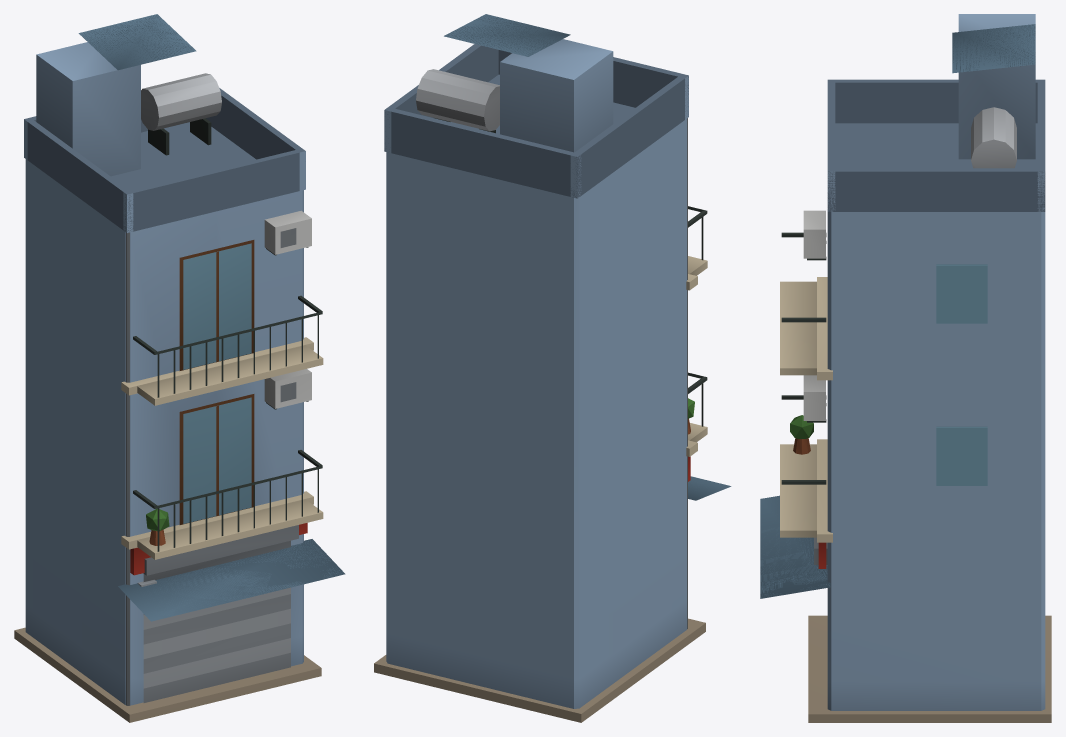
Rendered from nha-pho-d.glb.
3 views of the same model, side by side, from view 1: azimuth 30°, elevation 25°; view 2: azimuth 150°, elevation 25°; view 3: azimuth 270°, elevation 25° (orthographic). The views are drawn at different scales.
Parts seen in each view (by area): view 1: nha-pho-d; view 2: nha-pho-d; view 3: nha-pho-d.
Part boxes in pixels (x1,y1,x2,y2): nha-pho-d: (14,14,345,722); nha-pho-d: (374,14,731,722); nha-pho-d: (760,14,1051,722).
Size of the model in its own units: 3.7 by 10.85 by 4.55.
